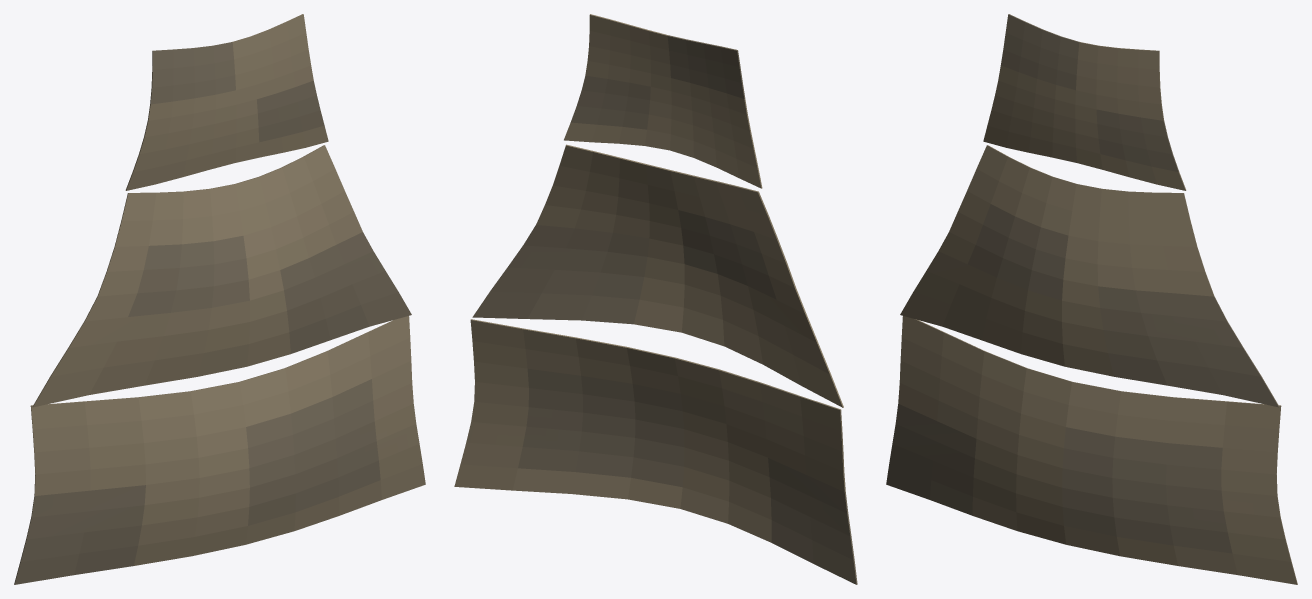
File: LargeShip_2_Sails4.fbx
3 renders of one model, left to right at view 1: azimuth 30°, elevation 25°; view 2: azimuth 150°, elevation 25°; view 3: azimuth 330°, elevation 25°, orthographic. The views are drawn at different scales.
Parts seen in each view (by area): view 1: LargeShip_2_Sails4; view 2: LargeShip_2_Sails4; view 3: LargeShip_2_Sails4.
Boxes of the visible parts, x1,y1,x2,y2 form: LargeShip_2_Sails4: [14, 14, 425, 584]; LargeShip_2_Sails4: [454, 14, 857, 584]; LargeShip_2_Sails4: [886, 14, 1297, 584].
Bounding box in the file's own units: 2093 × 2470 × 271.
